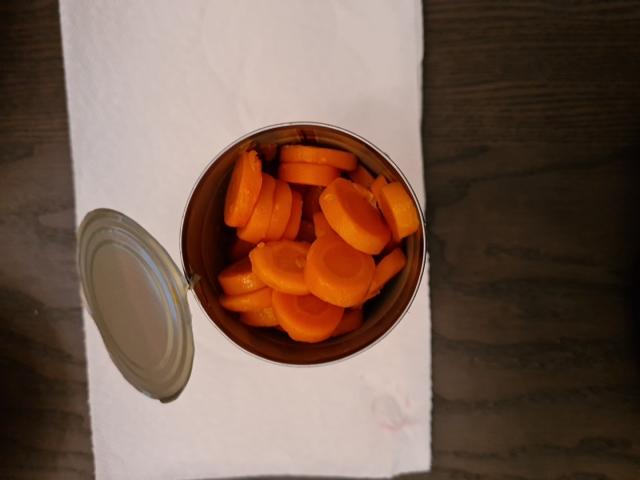kichen waste: (219, 145, 416, 341)
